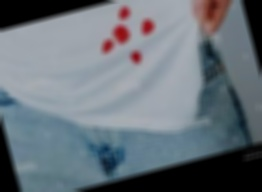blood: (111, 24, 132, 45), (140, 18, 157, 36), (99, 38, 116, 54), (117, 6, 132, 21), (130, 50, 143, 64)
